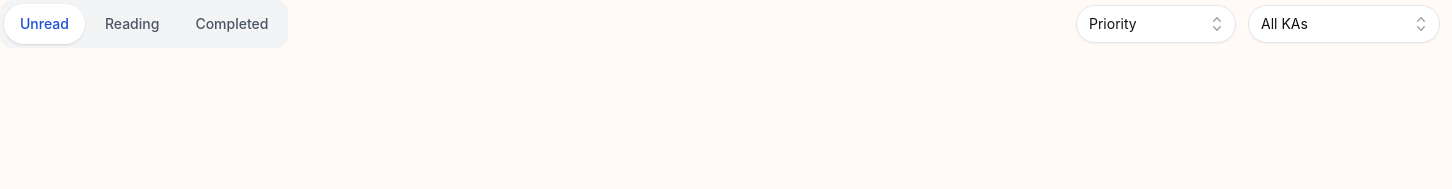
Test: ReadingFilterBar › sort dropdown › opens dropdown when clicked
Find and click the sort dropdown button
Click the button "Priority".
click(1156, 24)  # box [1076,5,1236,43]
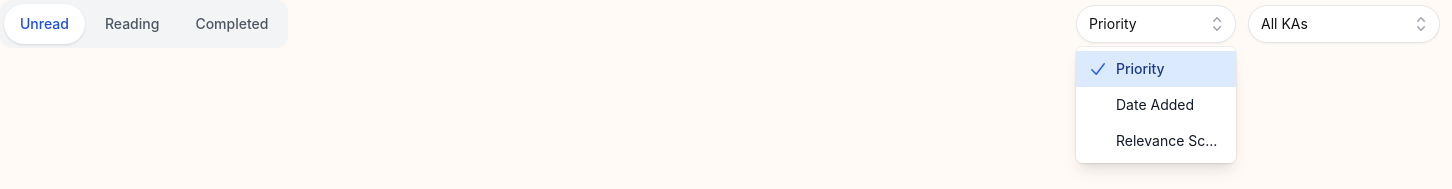
Result: the option "Priority" is shown at [1076,51,1236,87]
Result: the option "Date Added" is shown at [1116,96,1194,113]
Result: the option "Relevance Score" is shown at [1116,132,1227,149]
